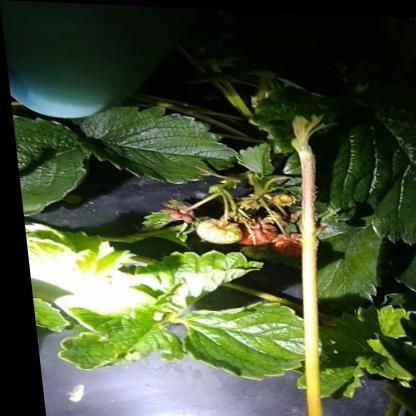ripe: (264, 231, 302, 256), (234, 223, 272, 244)
unripe: (190, 216, 238, 244), (235, 244, 266, 259)
